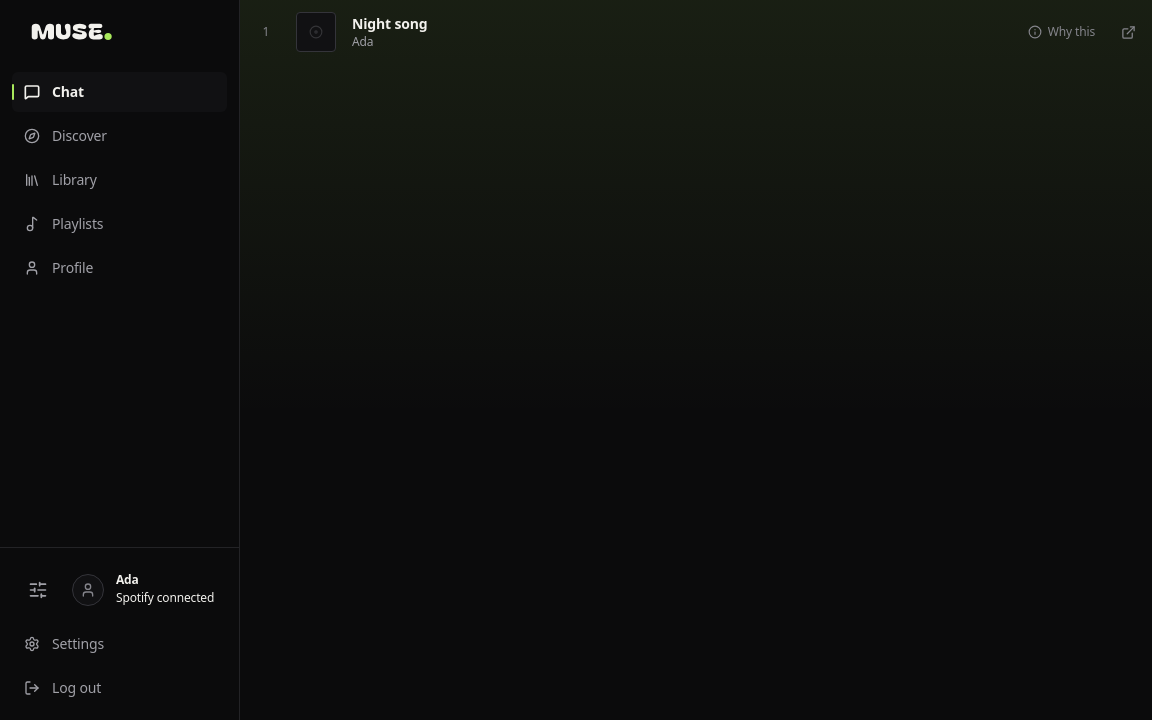
compact tester track inspection › opens the desktop content in a sheet, preserves the strip on close and reopens it
This screenshot has width=1152, height=720.
Step 1. Click the button named "Select Night song" → click(316, 32), box left=296, top=12, right=336, bottom=52
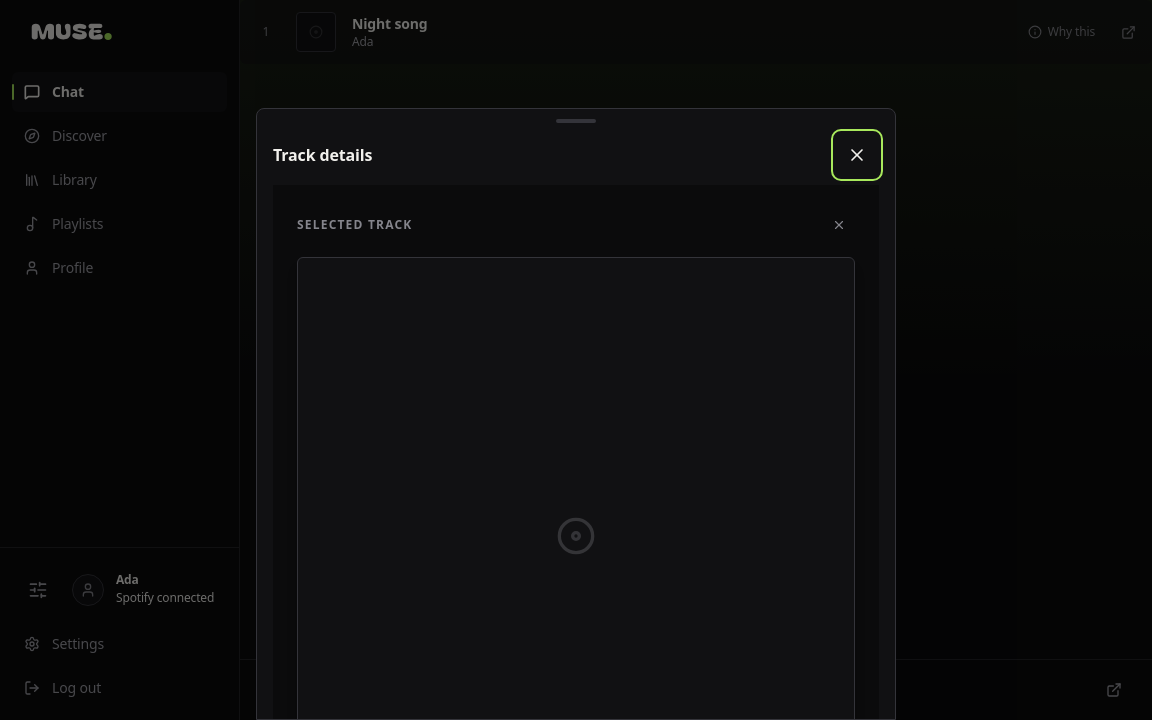
Step 2. Click the button named "Close track details" → click(857, 155), box left=835, top=133, right=879, bottom=177
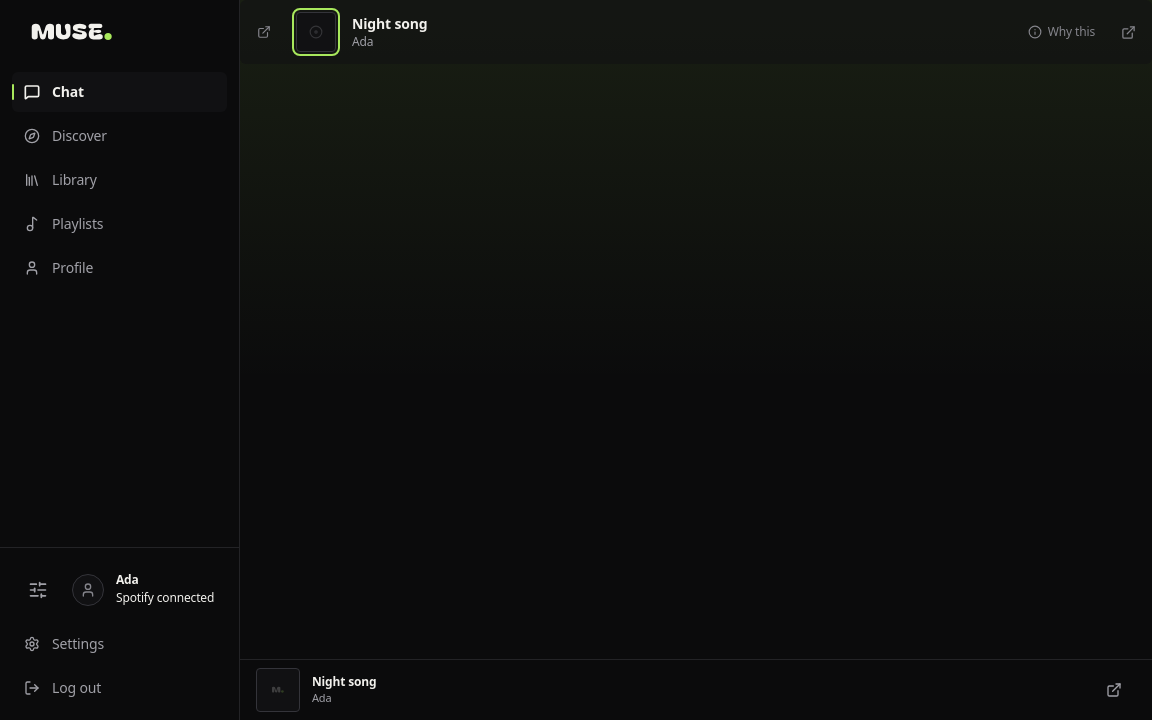
Now the dialog is gone
Step 3. Click the button with aria-label "Show details for Night song" → click(344, 681), box left=312, top=668, right=1080, bottom=712
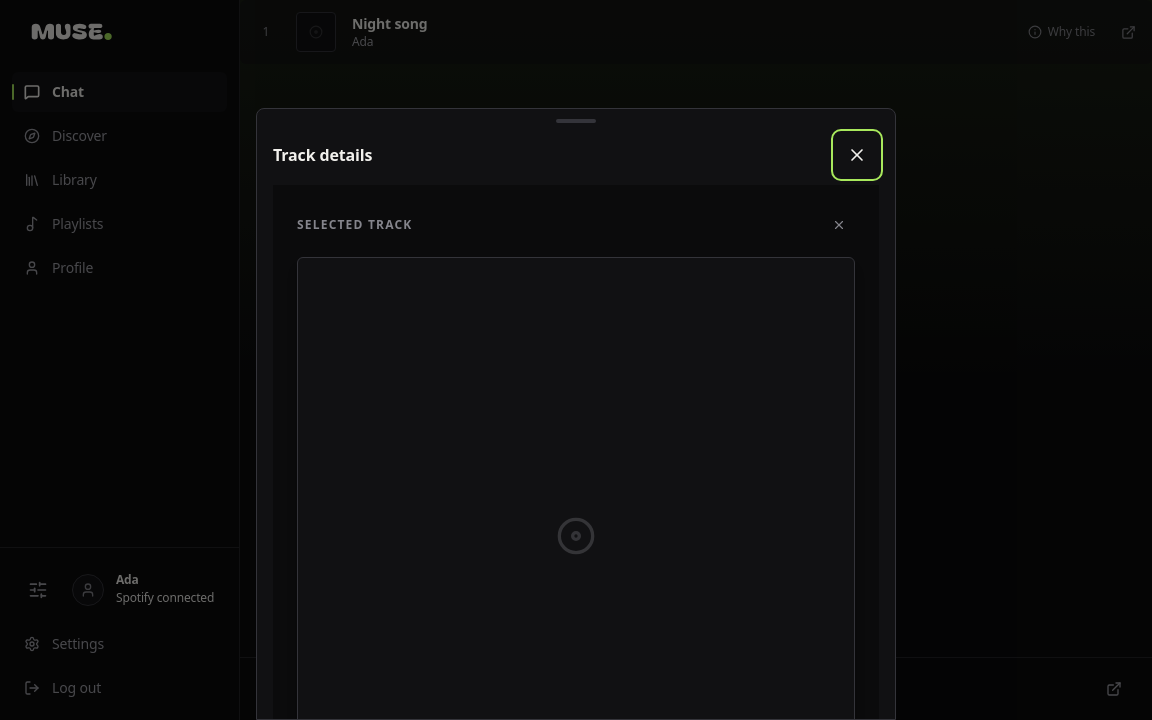
Now the dialog "Track details" is shown, box left=256, top=108, right=896, bottom=719
